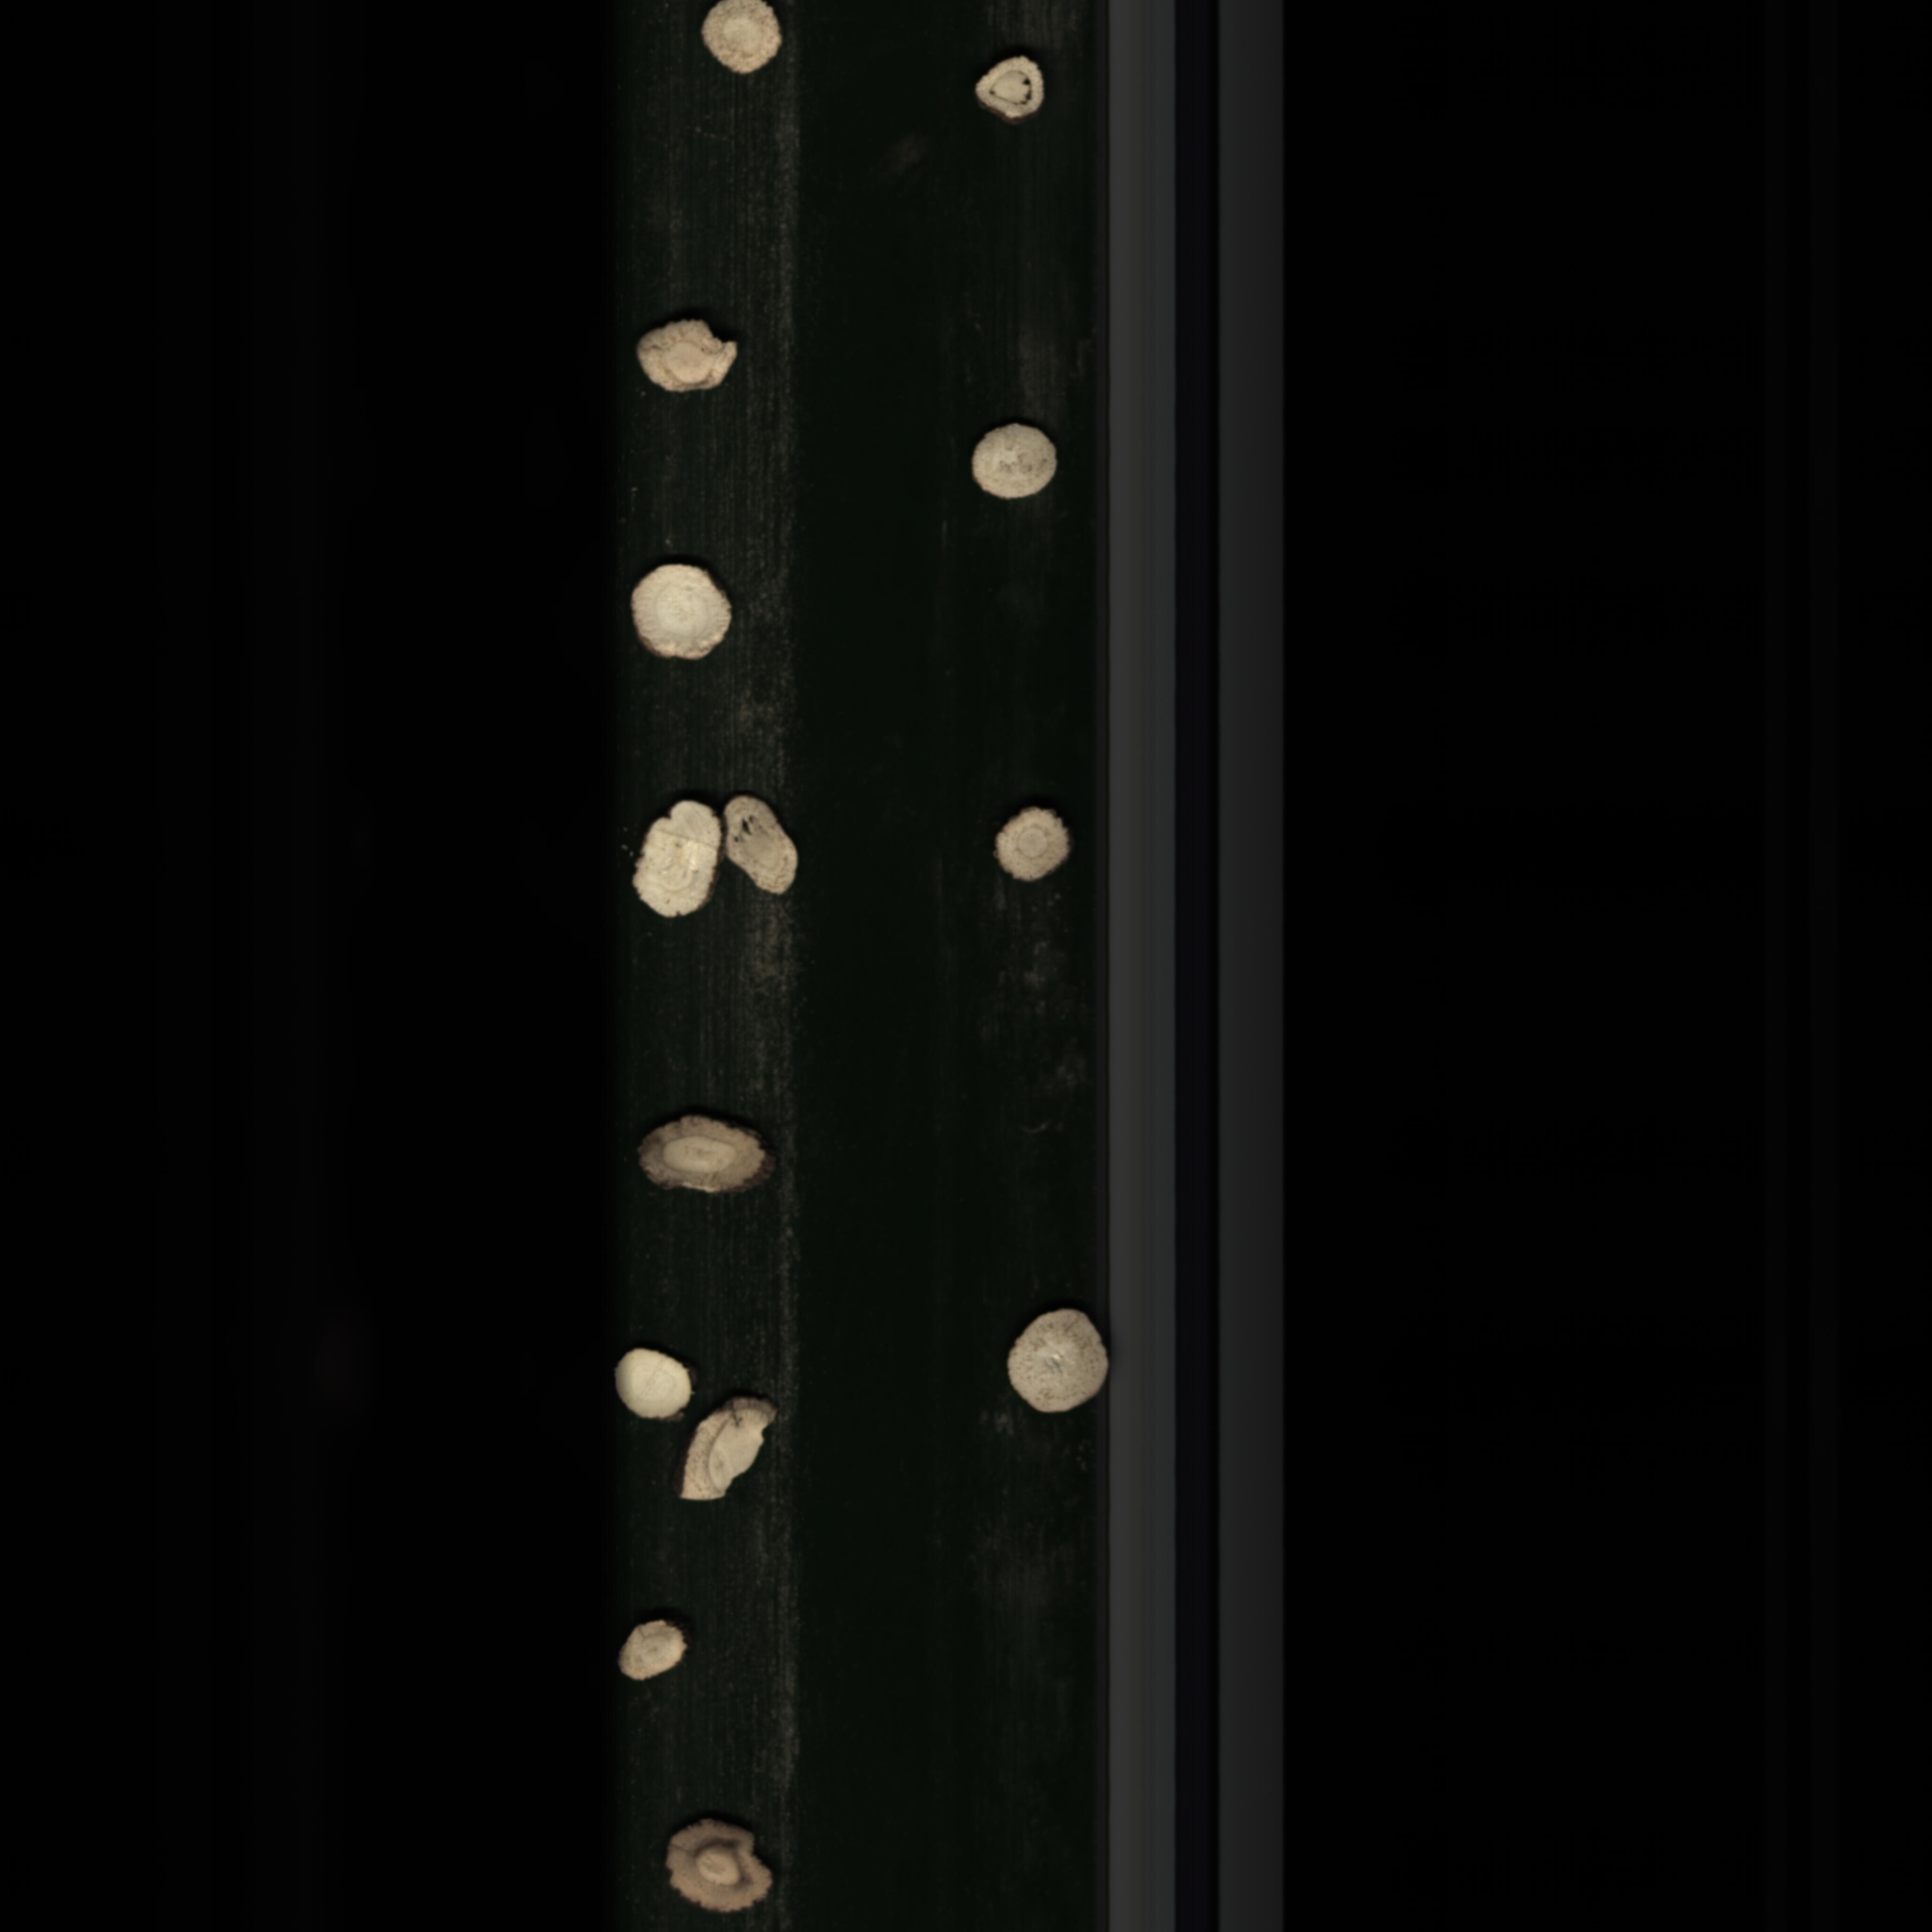debris: (679, 1398, 782, 1516)
distortion: (626, 1104, 789, 1205)
moldy: (628, 315, 764, 400)
